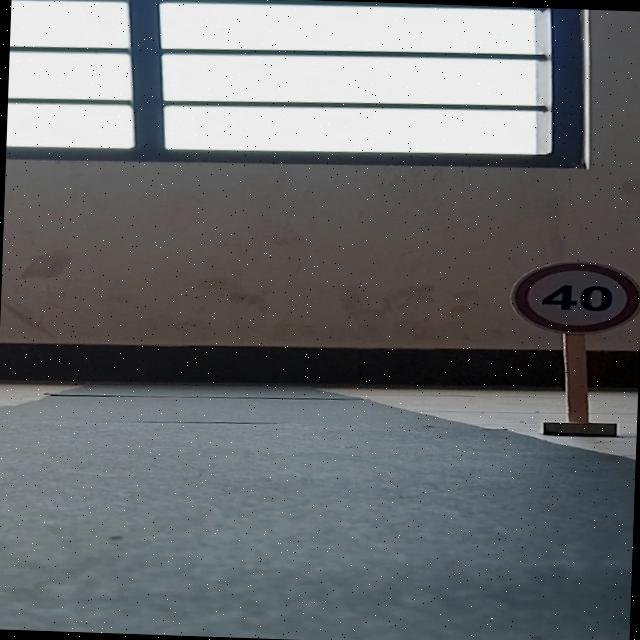Speed40: (495, 251, 640, 336)
